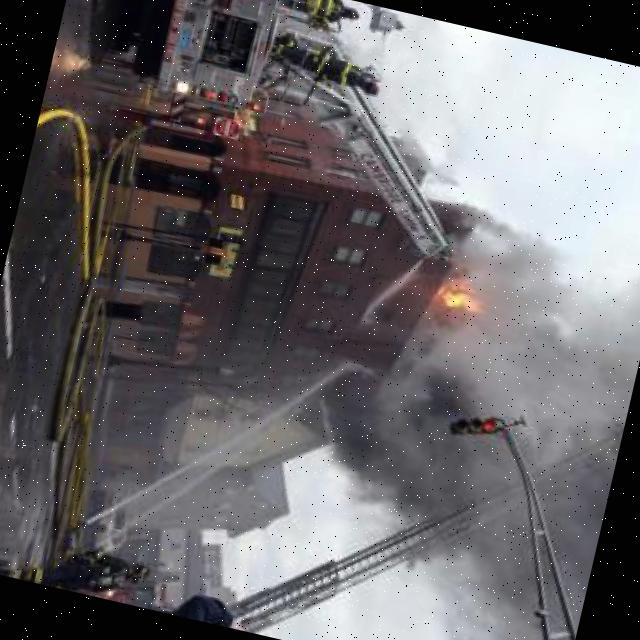fire: (432, 274, 492, 319)
